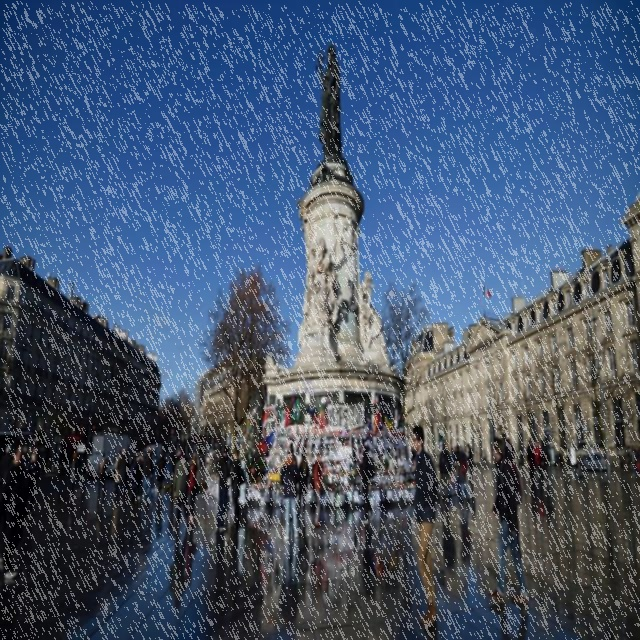pessoa: (482, 432, 531, 613), (408, 419, 442, 636), (274, 528, 332, 618), (0, 440, 29, 582), (216, 526, 265, 608), (362, 532, 402, 597), (168, 530, 198, 612), (279, 445, 301, 541), (440, 508, 472, 572), (356, 437, 378, 528), (213, 440, 233, 535), (172, 447, 192, 534), (22, 443, 39, 520), (229, 445, 244, 532), (294, 445, 310, 525), (310, 451, 325, 528), (437, 437, 452, 509), (453, 444, 471, 504), (237, 452, 248, 529), (115, 450, 128, 510), (142, 444, 154, 508), (94, 450, 108, 500), (0, 443, 15, 487), (154, 450, 167, 500), (532, 439, 546, 484), (134, 452, 146, 502), (540, 437, 552, 486), (129, 454, 139, 508), (69, 451, 78, 504), (189, 452, 199, 499), (114, 450, 122, 508), (226, 452, 233, 516), (125, 446, 134, 490), (466, 441, 474, 485), (526, 439, 533, 485), (629, 444, 637, 480), (288, 441, 298, 466), (452, 444, 458, 485), (212, 450, 220, 478), (227, 452, 234, 479), (556, 448, 564, 471), (450, 446, 456, 474), (634, 446, 640, 472), (520, 448, 526, 474), (174, 446, 182, 464), (504, 438, 510, 450), (456, 443, 460, 461), (554, 452, 558, 464)
